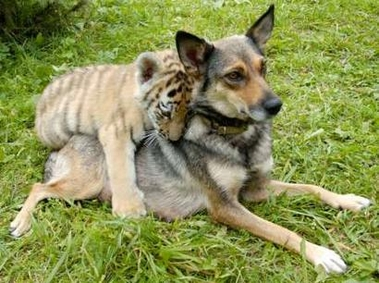dog: (11, 9, 337, 248)
tiger: (31, 45, 190, 152)
